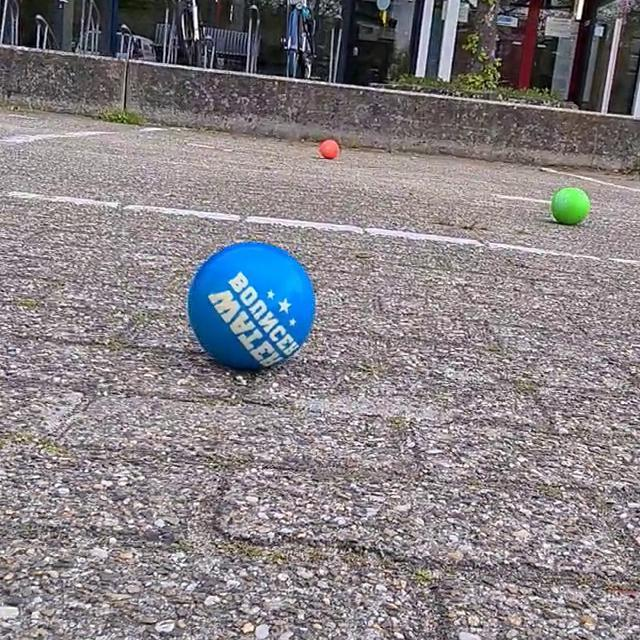ball: (549, 184, 591, 231), (318, 134, 340, 163)
